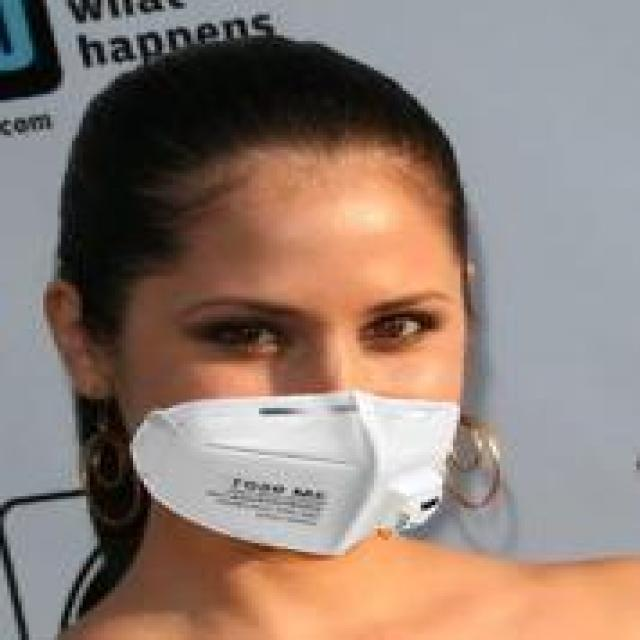mask: (29, 35, 518, 570)
